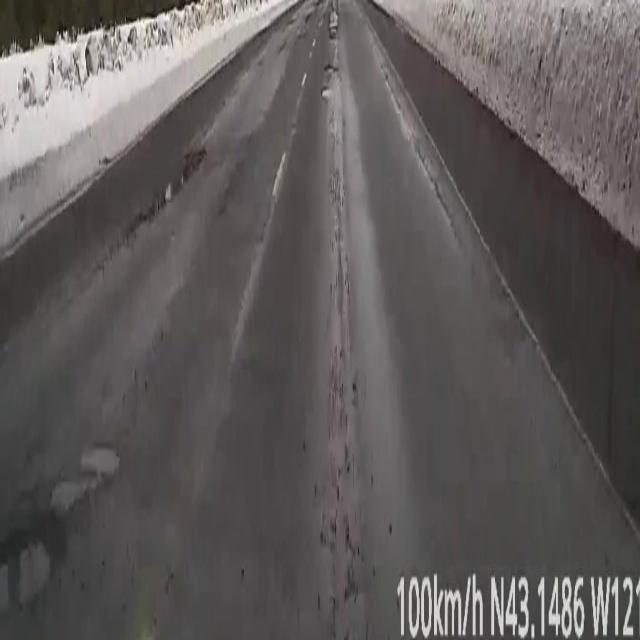pothole: (0, 441, 123, 603), (127, 136, 206, 230), (326, 7, 338, 78)
